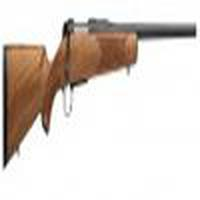gun: (1, 16, 200, 169)
